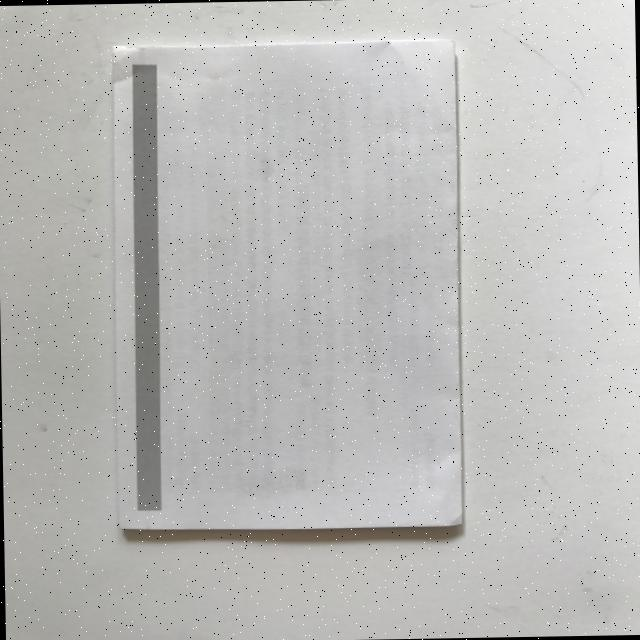paper: (110, 39, 466, 532)
